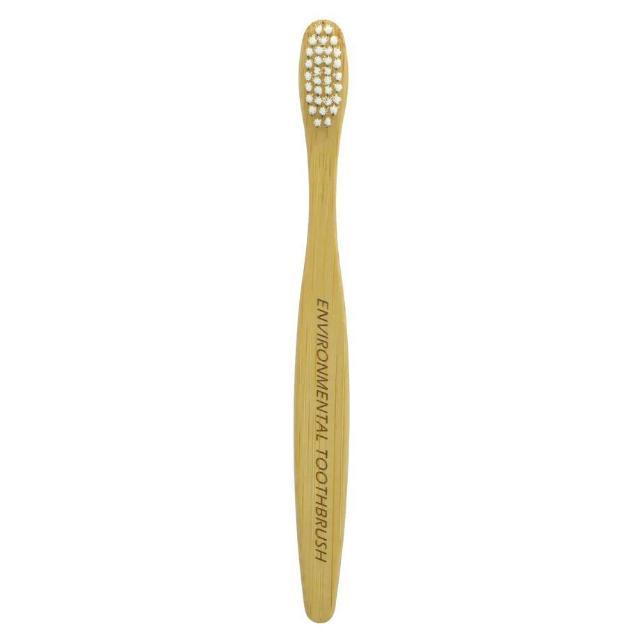toothbrush: (262, 2, 396, 616)
